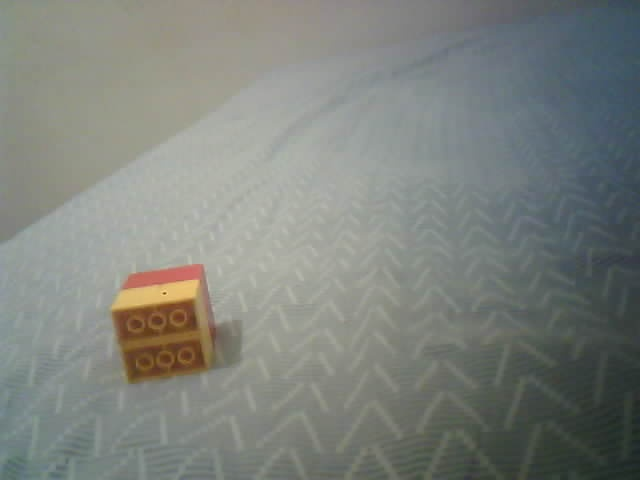lego: (109, 263, 218, 385)
